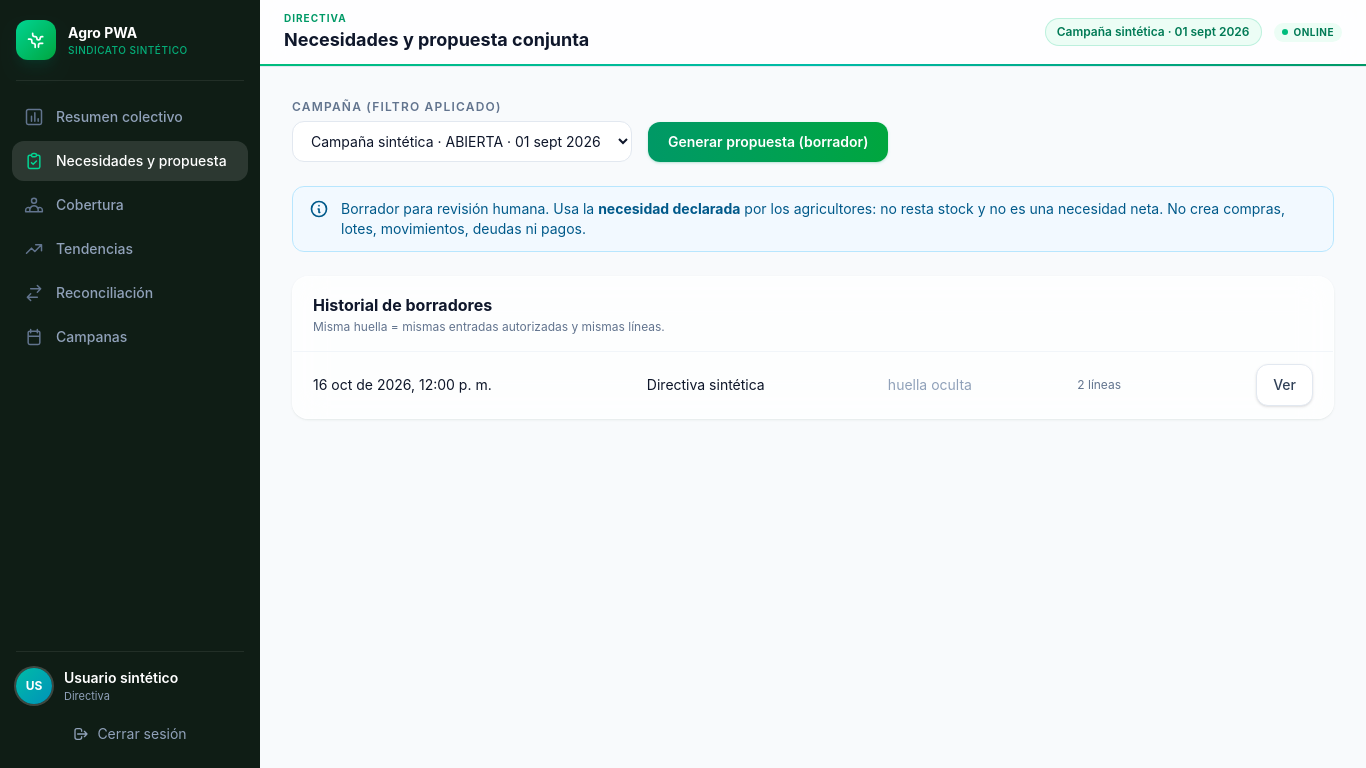
Test case: Propuesta de compra conjunta (borrador) › una cifra sustituida o retirada no se muestra y la huella queda oculta
Click the button "Ver". click: (1285, 385)
box: [1256, 364, 1313, 406]
(page scrolled)
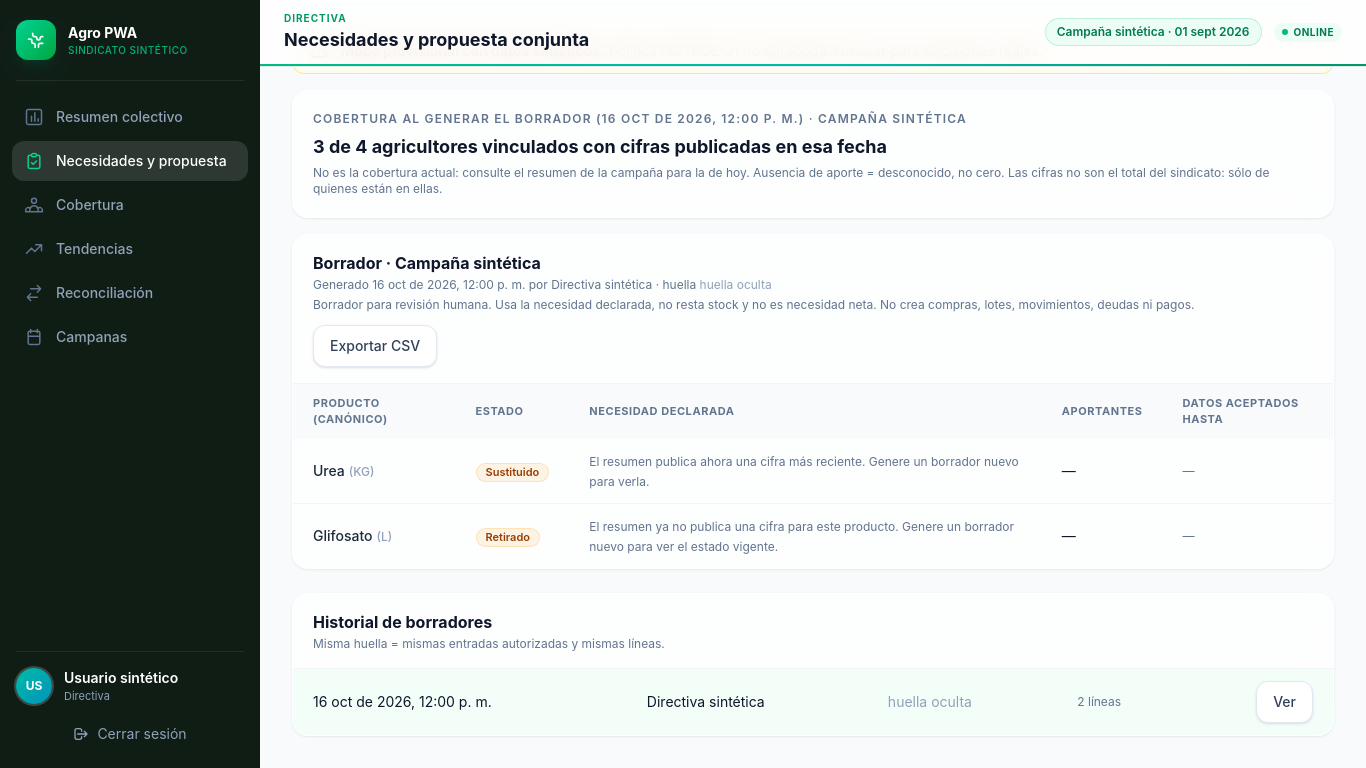
Now the row with test id "line-Urea-G" shows "Sustituido", box [486, 464, 539, 478]
Now the row with test id "line-Urea-G" shows "cifra más reciente", box [589, 454, 1019, 489]
Now the row with test id "line-Glifosato-ML" shows "ya no publica", box [589, 519, 1014, 554]
